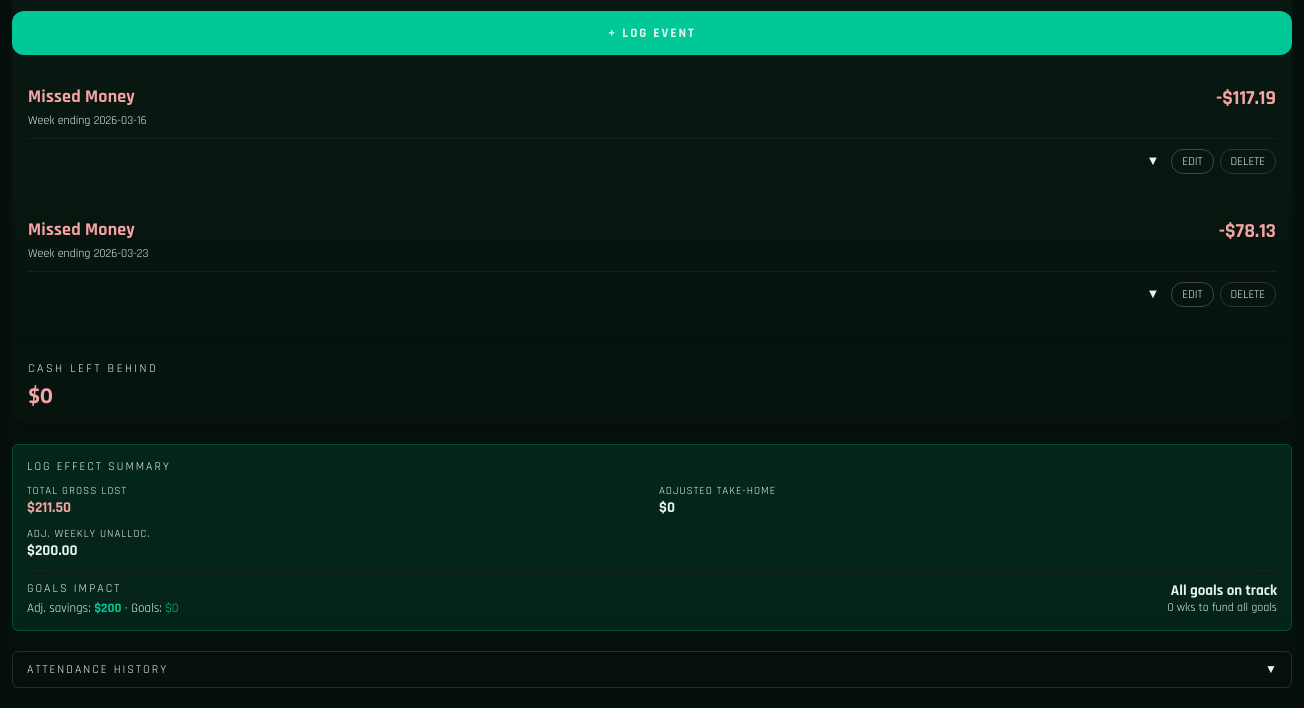
Attendance History — YTD tiles › shows correct partial shift count
(page scrolled)
Click the button "Attendance History ▼": (98, 669) 12,651 -> 1292,688
(page scrolled)
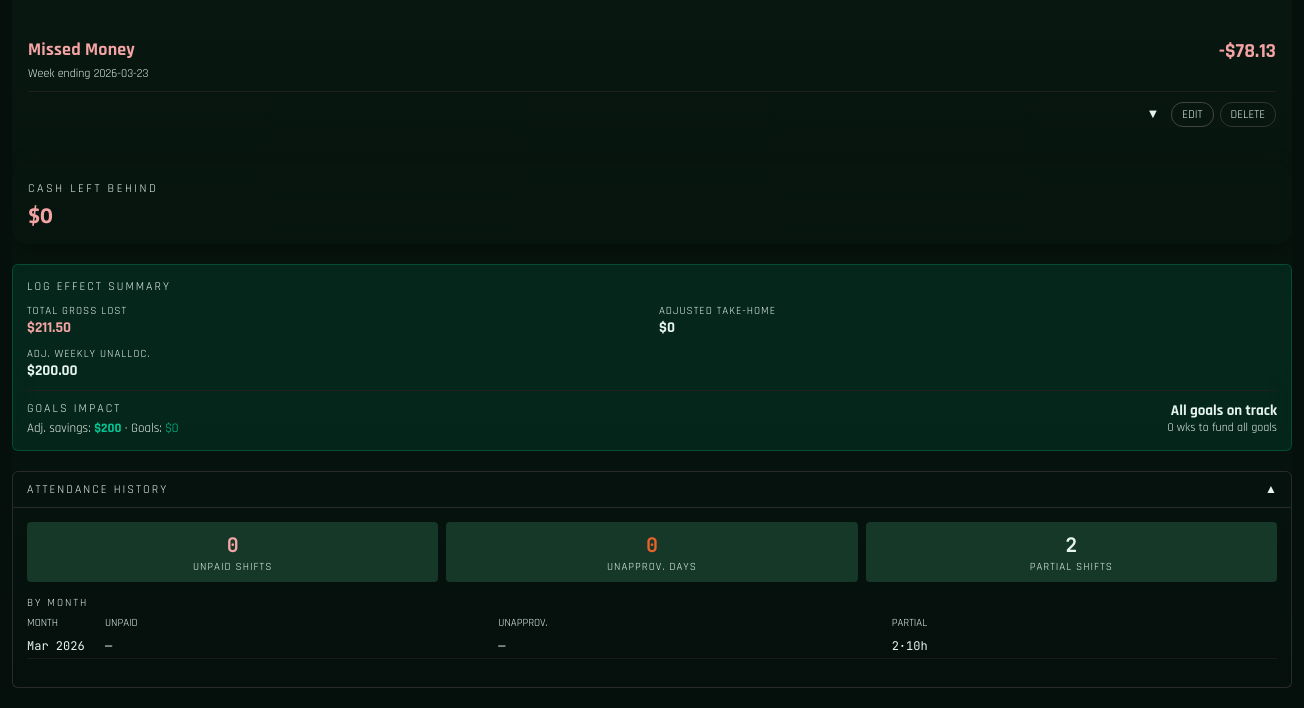
Now the text "2" is shown, box 1065,532 -> 1077,558
